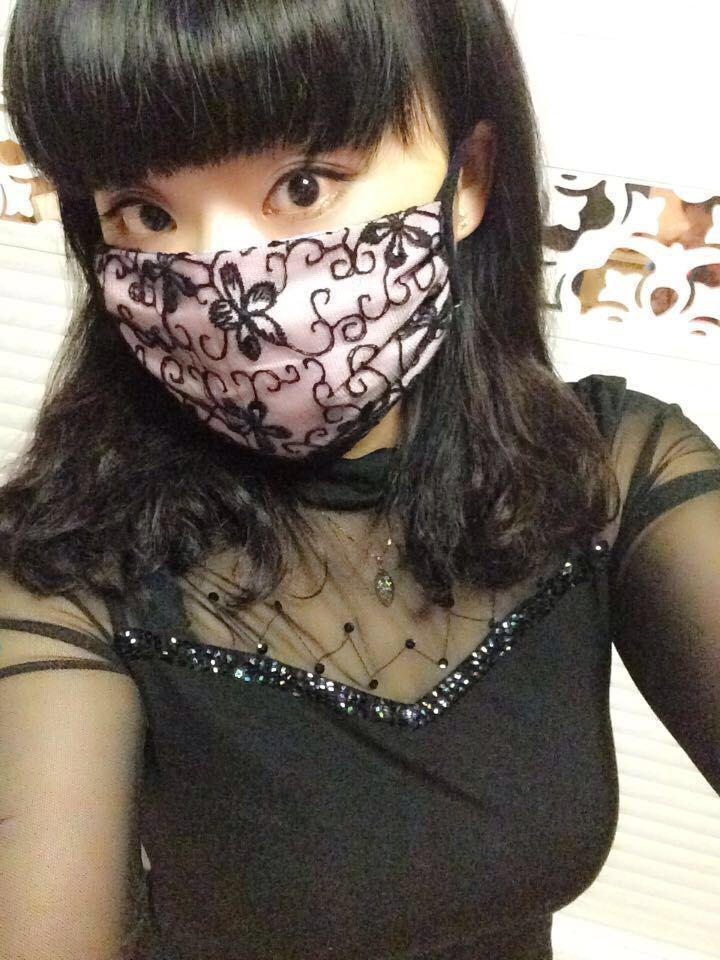OK: (98, 108, 420, 452)
